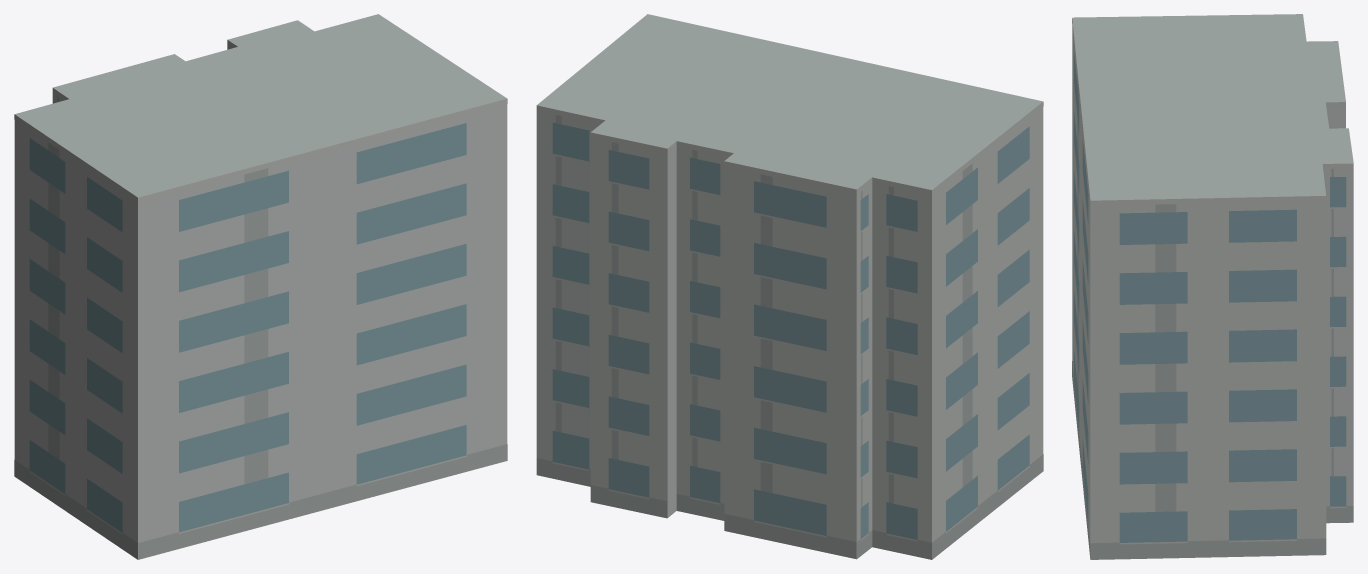
The model's file is survey-upis-33024667.glb.
3 renders of one model, left to right at view 1: azimuth 30°, elevation 25°; view 2: azimuth 150°, elevation 25°; view 3: azimuth 270°, elevation 25°, orthographic. The views are drawn at different scales.
Visible parts, largest first — view 1: survey-upis-33024667.tmp; view 2: survey-upis-33024667.tmp; view 3: survey-upis-33024667.tmp.
Part boxes in pixels (x1,y1,x2,y2): survey-upis-33024667.tmp: (14,14,507,559); survey-upis-33024667.tmp: (536,14,1043,559); survey-upis-33024667.tmp: (1072,14,1353,559).
Bounding box in the file's own units: 18.73 × 16.8 × 11.95.
